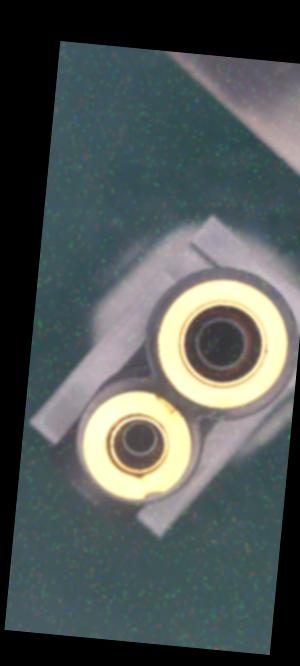bump: (143, 389, 186, 419), (141, 485, 164, 503)
